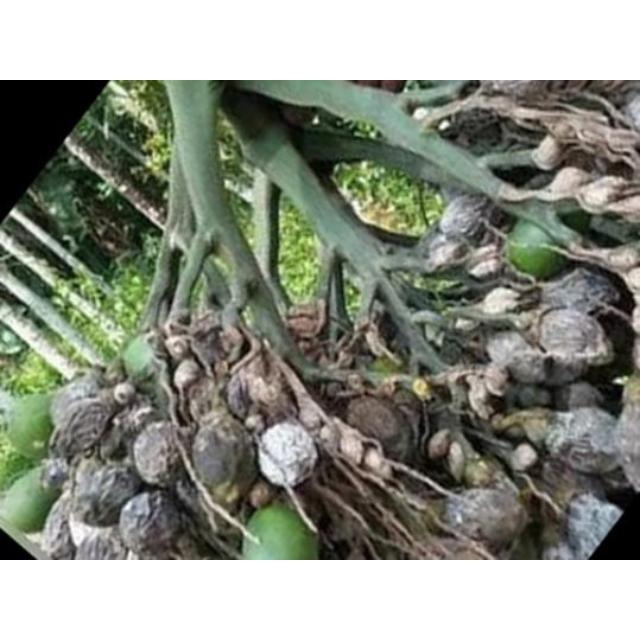damaged: (441, 484, 527, 552), (341, 394, 417, 466), (545, 407, 623, 477), (544, 491, 622, 559), (536, 306, 610, 372), (118, 490, 192, 556), (246, 424, 324, 486), (190, 418, 252, 492), (71, 463, 139, 527), (52, 395, 116, 461), (131, 424, 187, 488), (546, 265, 620, 313), (237, 360, 293, 420), (444, 104, 512, 150), (484, 330, 544, 382), (438, 193, 500, 241), (68, 514, 132, 560), (112, 399, 162, 457), (538, 456, 598, 504), (41, 498, 83, 558), (50, 379, 98, 426), (496, 408, 554, 446), (184, 374, 226, 426), (189, 322, 231, 370), (578, 174, 632, 210), (173, 474, 213, 522), (426, 234, 472, 274), (386, 387, 424, 425), (556, 382, 604, 412), (460, 454, 500, 490), (480, 286, 524, 318), (546, 166, 590, 198), (225, 374, 252, 420), (39, 459, 71, 495), (172, 359, 202, 393), (296, 400, 326, 434), (468, 253, 506, 279), (508, 442, 540, 472), (534, 136, 564, 168), (512, 384, 552, 408), (338, 432, 366, 466), (605, 244, 639, 272), (220, 324, 247, 358), (426, 429, 454, 461), (446, 440, 466, 480), (164, 334, 192, 362), (484, 362, 510, 390), (112, 382, 138, 406), (318, 423, 338, 447), (452, 317, 480, 333)
